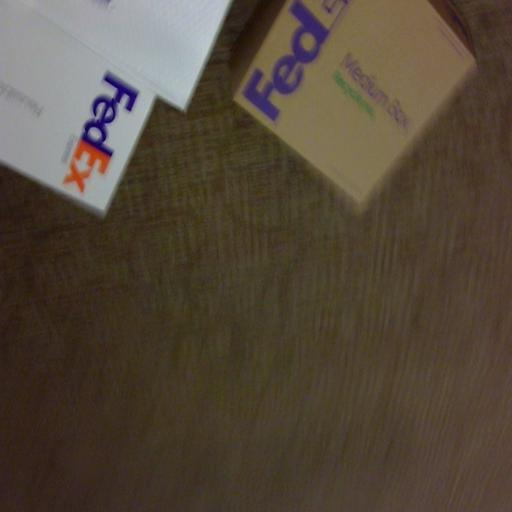Amazon: (253, 0, 483, 210), (0, 32, 164, 224)
